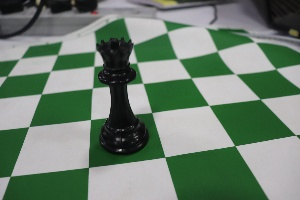black_queen: (76, 25, 157, 167)
